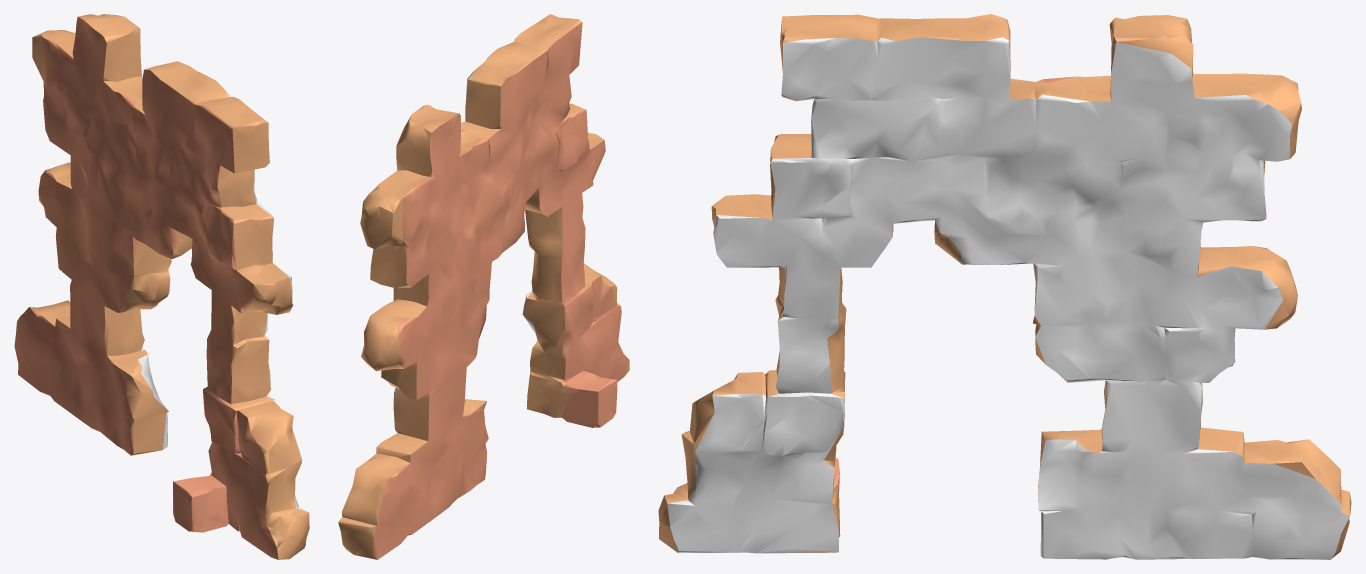
File: Wall3_fbx.fbx
The picture shows the model from 3 angles, left to right: view 1: azimuth 30°, elevation 25°; view 2: azimuth 150°, elevation 25°; view 3: azimuth 270°, elevation 25°; orthographic projection. The views are drawn at different scales.
Visible parts, largest first — view 1: Wall3; view 2: Wall3; view 3: Wall3.
Part boxes in pixels (bbox=[...]): Wall3: bbox=[14, 14, 309, 559]; Wall3: bbox=[338, 14, 629, 559]; Wall3: bbox=[658, 14, 1351, 559].
Size of the model in its own units: 1.33 by 6.33 by 7.57.
